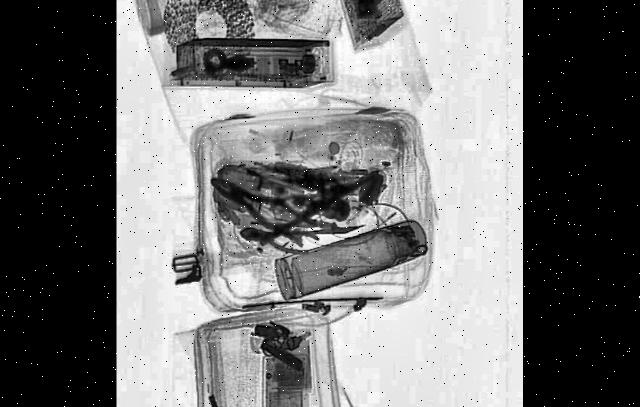Pliers: (208, 160, 317, 255), (241, 218, 320, 258)
